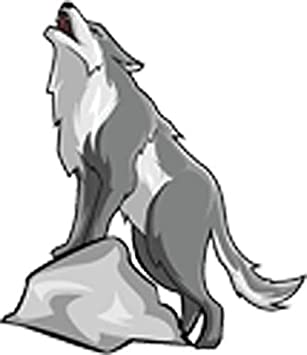Lobo: (5, 4, 307, 345)
